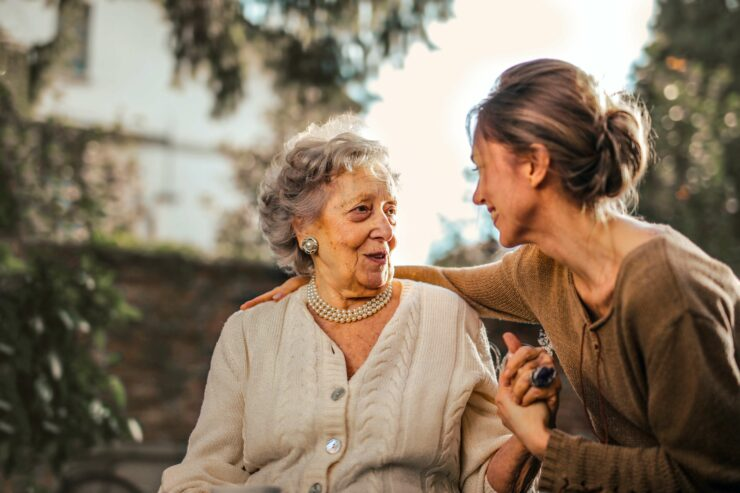without_mask: (315, 167, 402, 301), (462, 128, 537, 249)
